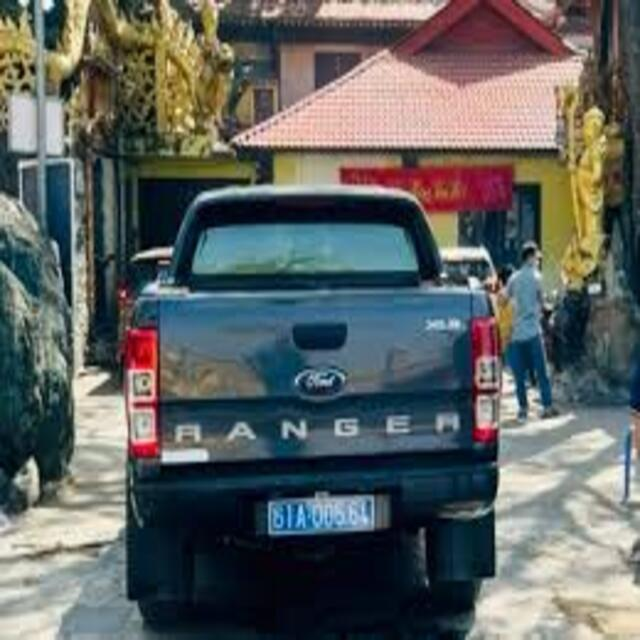car: (116, 182, 508, 624)
plate: (262, 492, 379, 546)
